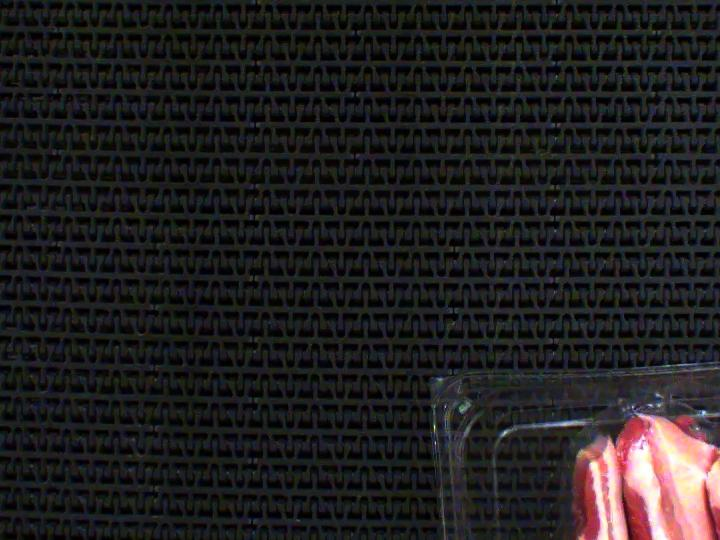unsealed: (543, 362, 720, 540)
